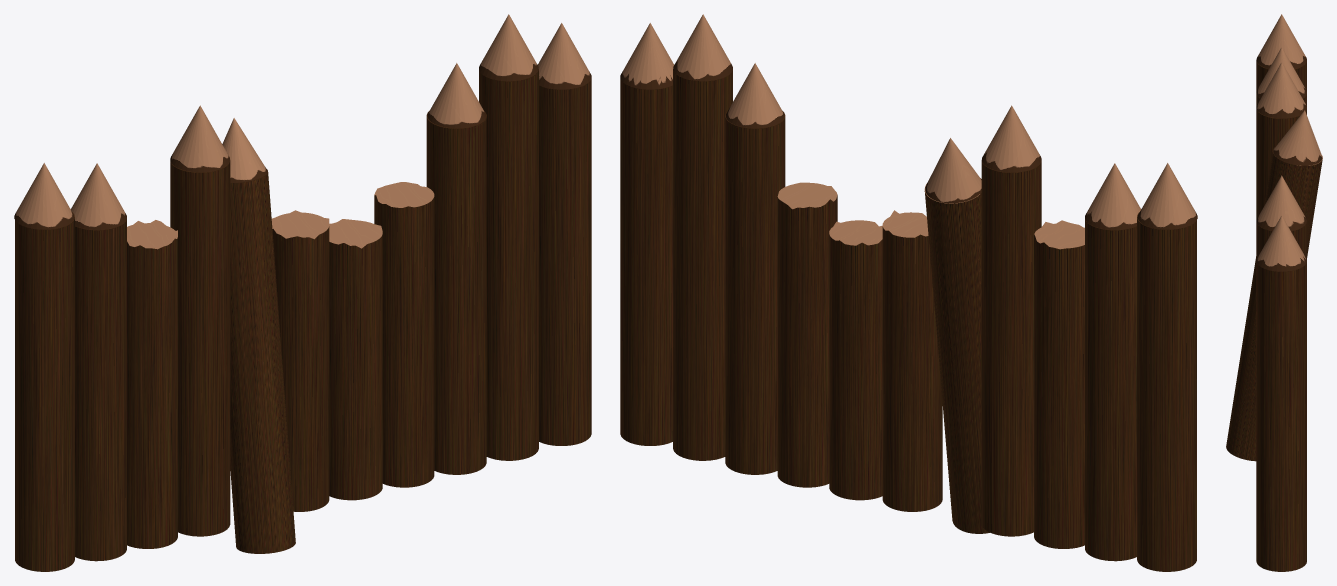
Rendered from woodwallDamaged.fbx.
The picture shows the model from 3 angles, left to right: view 1: azimuth 30°, elevation 25°; view 2: azimuth 150°, elevation 25°; view 3: azimuth 270°, elevation 25°; orthographic projection. The views are drawn at different scales.
Parts seen in each view (by area): view 1: Cylinder; view 2: Cylinder; view 3: Cylinder.
Part boxes in pixels (box(x1,y1,x2,y2)): Cylinder: box(14, 14, 591, 571); Cylinder: box(620, 14, 1197, 571); Cylinder: box(1226, 14, 1322, 571).
Size of the model in its own units: 2187 by 1679 by 382.
